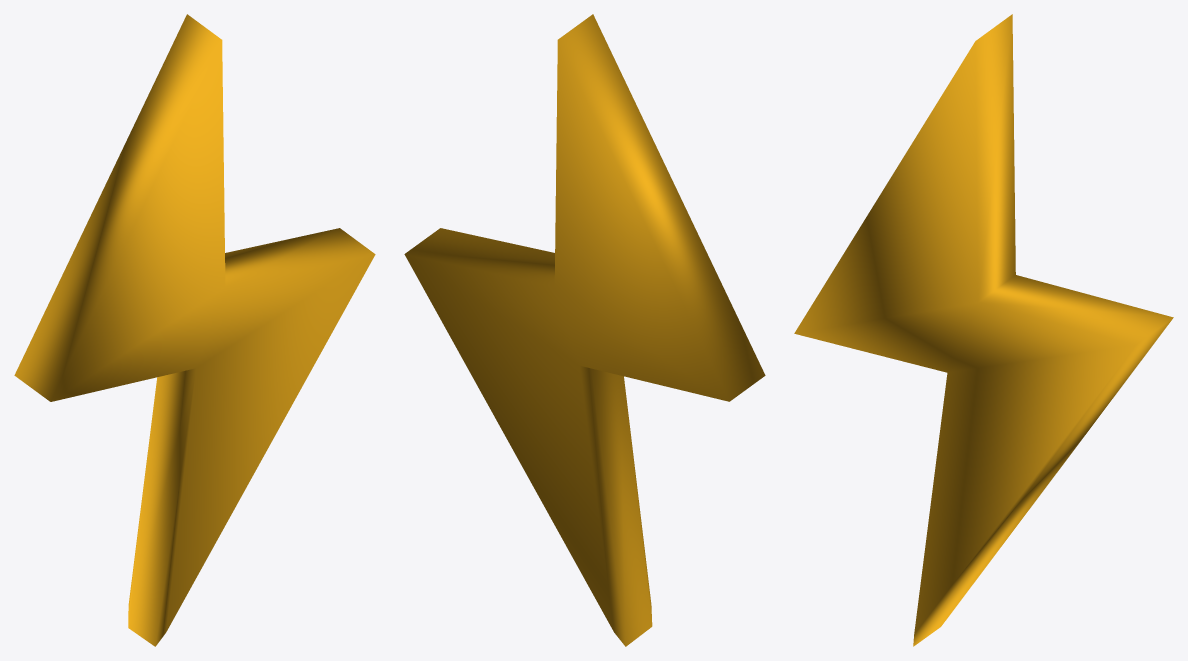
Rendered from lightning.fbx.
3 views of the same model, side by side, from view 1: azimuth 30°, elevation 25°; view 2: azimuth 150°, elevation 25°; view 3: azimuth 330°, elevation 25° (orthographic). The views are drawn at different scales.
Visible parts, largest first — view 1: Plane.032; view 2: Plane.032; view 3: Plane.032.
Part boxes in pixels (x1,y1,x2,y2): Plane.032: (14,14,375,646); Plane.032: (404,14,765,646); Plane.032: (794,14,1173,646).
Bounding box in the file's own units: 243 × 425 × 49.19.
